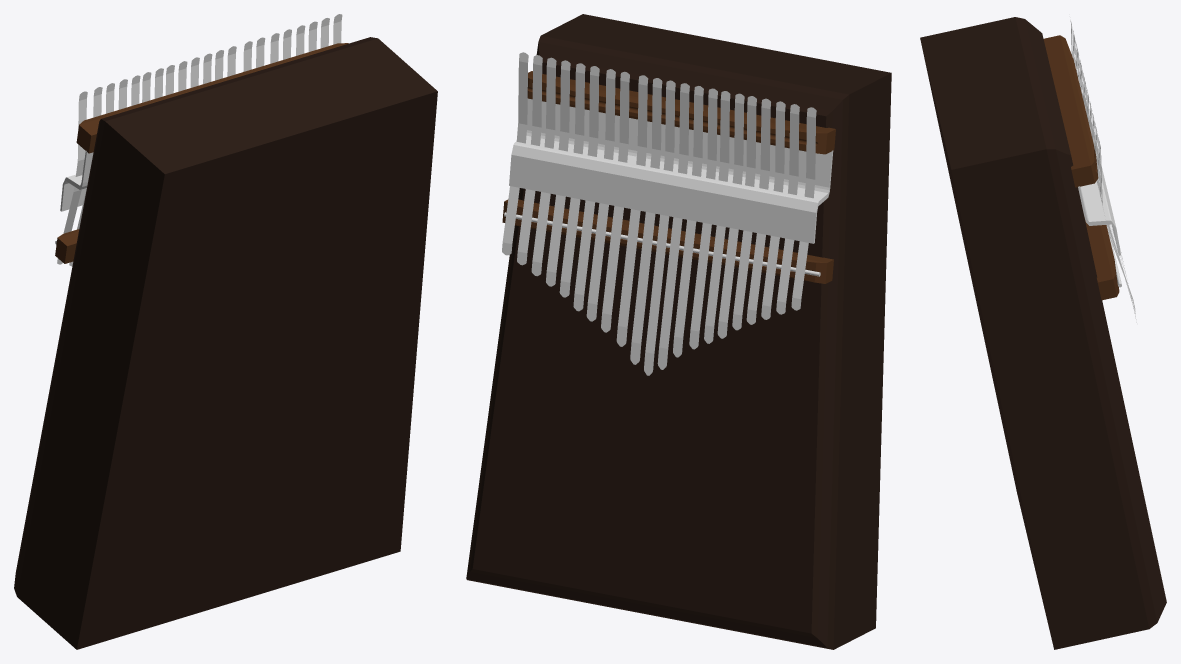
The model's file is Kalimba.fbx.
3 renders of one model, left to right at view 1: azimuth 30°, elevation 25°; view 2: azimuth 150°, elevation 25°; view 3: azimuth 270°, elevation 25°, orthographic. The views are drawn at different scales.
Visible parts, largest first — view 1: Cube, Cylinder; view 2: Cube, Cylinder; view 3: Cube, Cylinder.
Boxes of the visible parts, bbox=[...] form: Cube: bbox=[14, 37, 437, 649]; Cylinder: bbox=[55, 14, 342, 266]; Cube: bbox=[466, 14, 891, 649]; Cylinder: bbox=[502, 52, 833, 375]; Cube: bbox=[920, 17, 1166, 649]; Cylinder: bbox=[1070, 20, 1136, 322].
Size of the model in its own units: 553 by 793 by 359.
